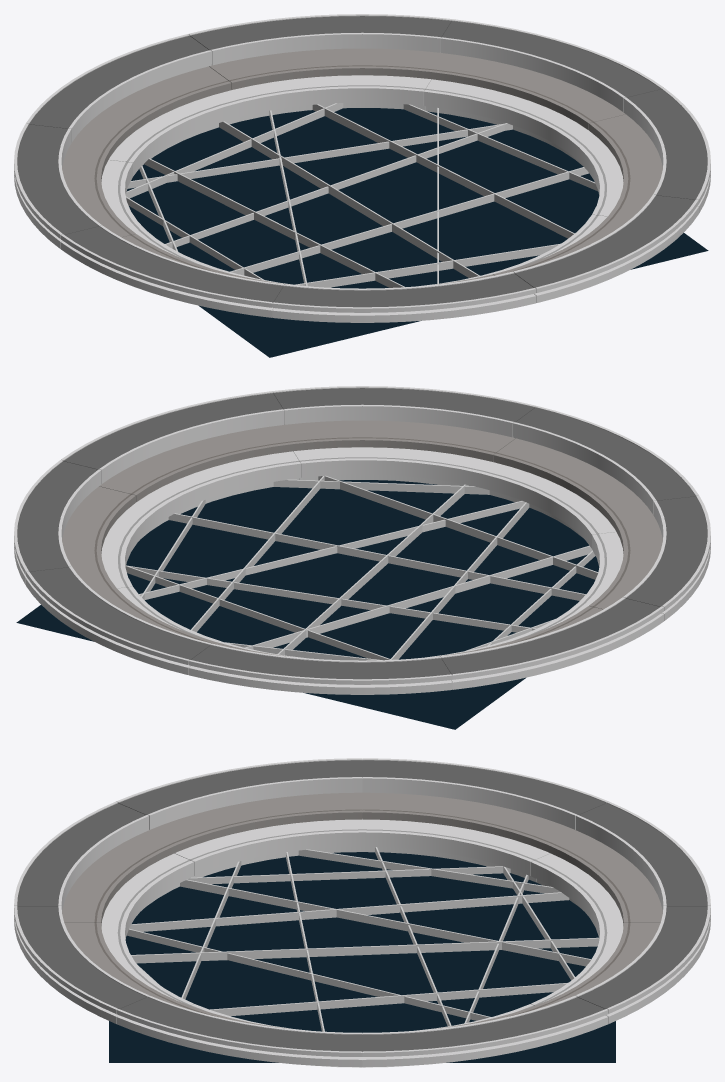
File: MMo_C_001_DC_a_44x44.fbx
3 views of the same model, one above another, from view 1: azimuth 30°, elevation 25°; view 2: azimuth 150°, elevation 25°; view 3: azimuth 270°, elevation 25° (orthographic).
Visible parts, largest first — view 1: MMo_C_001_DC_a_44x44, MMo_C_001_DC_a_44x44_glass; view 2: MMo_C_001_DC_a_44x44, MMo_C_001_DC_a_44x44_glass; view 3: MMo_C_001_DC_a_44x44, MMo_C_001_DC_a_44x44_glass.
Part boxes in pixels (box(x1,y1,x2,y2)): MMo_C_001_DC_a_44x44: box(14, 14, 710, 322); MMo_C_001_DC_a_44x44_glass: box(126, 108, 708, 357); MMo_C_001_DC_a_44x44: box(14, 386, 710, 694); MMo_C_001_DC_a_44x44_glass: box(16, 480, 599, 729); MMo_C_001_DC_a_44x44: box(14, 758, 710, 1067); MMo_C_001_DC_a_44x44_glass: box(109, 852, 615, 1062).
Size of the model in its own units: 44 by 3.6 by 44.
